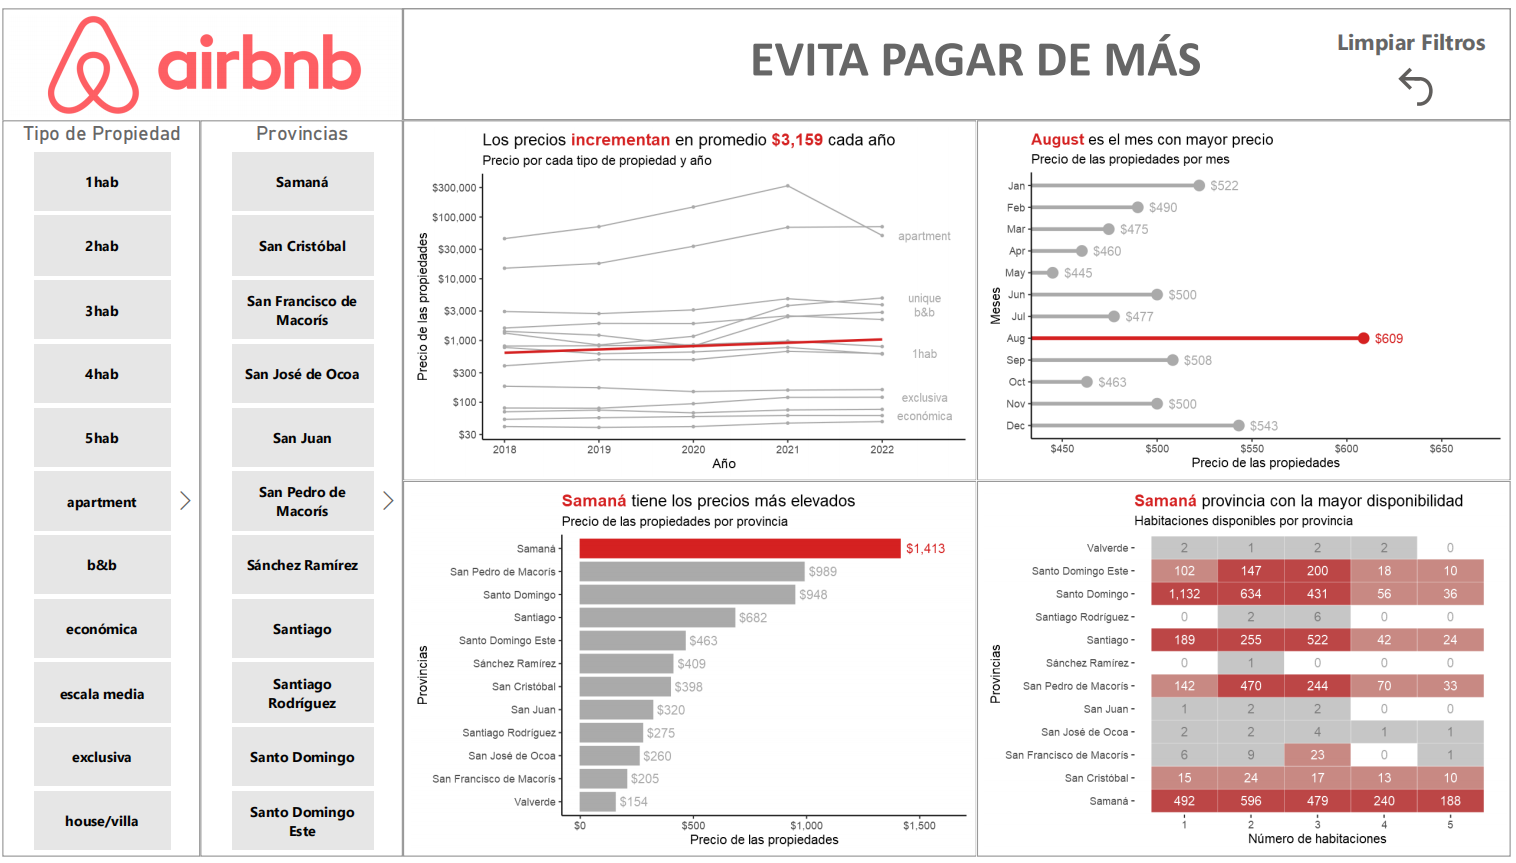

The dashboard page shown, as its layout file describes it:
{"tool":"powerbi","page":{"name":"Dashboard","canvas":[1280,720],"ordinal":0},"visuals":[{"type":"shape","box":[340.3,0,939.4,94.9],"z":0},{"type":"scriptVisual","fields":{"Values":["AirbnbPrecios.id","AirbnbPrecios.tipo","AirbnbPrecios.year","AirbnbPrecios.precio"]},"box":[340.4,95.4,486.2,305.8],"z":1000},{"type":"image","box":[0,0,340.3,95.8],"z":2000},{"type":"scriptVisual","fields":{"Values":["AirbnbPrecios.id","AirbnbPrecios.provincia","AirbnbPrecios.precio"]},"box":[340.4,401.1,486.2,318.9],"z":3000},{"type":"scriptVisual","fields":{"Values":["AirbnbPrecios.id","AirbnbPrecios.month","AirbnbPrecios.precio"]},"box":[826.6,95.4,453.5,305.8],"z":4000},{"type":"scriptVisual","fields":{"Values":["HabitacionesActivas.id","HabitacionesActivas.provincia","HabitacionesActivas.propiedades_activas","HabitacionesActivas.color_level","HabitacionesActivas.n_habitaciones"]},"box":[826.6,401.1,453.5,318.9],"z":5000},{"type":"slicer","title":"Tipo de Propiedad","fields":{"Values":["AirbnbPrecios.tipo"]},"box":[0,94.9,168.4,625.1],"z":6000},{"type":"slicer","title":"Provincias","fields":{"Values":["ProvinciaList.provincia"]},"box":[168,95.3,171.9,624.8],"z":7000},{"type":"actionButton","box":[1168,45,52,43],"z":8000},{"type":"textbox","box":[1099.7,9.9,165.7,34.9],"z":9000},{"type":"textbox","box":[617.9,0,416.4,95.8],"z":10000}]}

Visuals, with their boxes in screenshot pixels (x1, y1, x2, y2), scaled from the page's 1280x720 canvas onto the 1516x863 screenshot:
shape: {"x1": 403, "y1": 0, "x2": 1515, "y2": 114}
scriptVisual - AirbnbPrecios.id x AirbnbPrecios.tipo: {"x1": 403, "y1": 114, "x2": 979, "y2": 481}
image: {"x1": 0, "y1": 0, "x2": 403, "y2": 115}
scriptVisual - AirbnbPrecios.id x AirbnbPrecios.provincia: {"x1": 403, "y1": 481, "x2": 979, "y2": 862}
scriptVisual - AirbnbPrecios.id x AirbnbPrecios.month: {"x1": 979, "y1": 114, "x2": 1515, "y2": 481}
scriptVisual - HabitacionesActivas.id x HabitacionesActivas.provincia: {"x1": 979, "y1": 481, "x2": 1515, "y2": 862}
"Tipo de Propiedad" slicer: {"x1": 0, "y1": 114, "x2": 199, "y2": 862}
"Provincias" slicer: {"x1": 199, "y1": 114, "x2": 403, "y2": 862}
actionButton: {"x1": 1383, "y1": 54, "x2": 1445, "y2": 105}
textbox: {"x1": 1302, "y1": 12, "x2": 1499, "y2": 54}
textbox: {"x1": 732, "y1": 0, "x2": 1225, "y2": 115}
